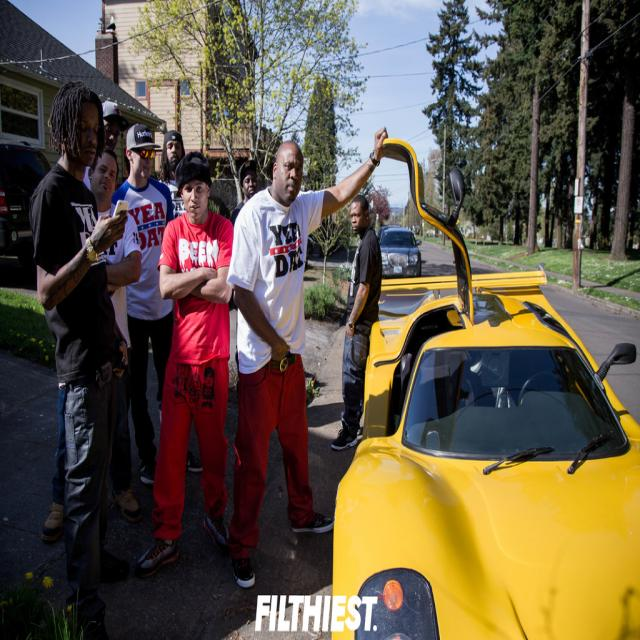car: (317, 123, 639, 638), (379, 221, 423, 276)
